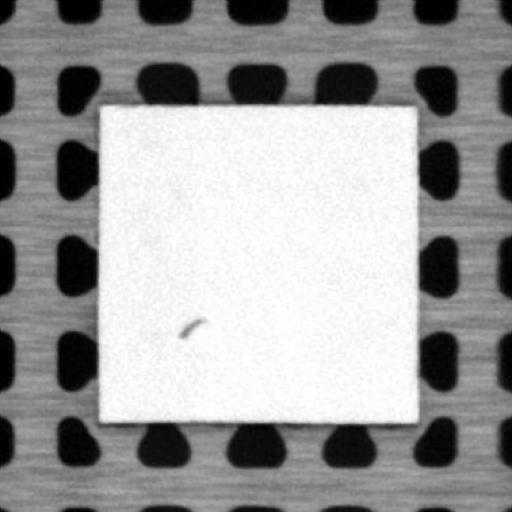DIE_INK: (175, 313, 207, 339)
